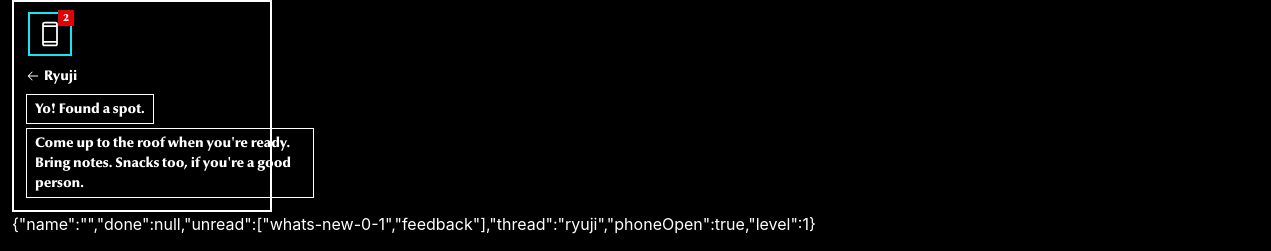
it: PhoneWidget › the back button returns to the list
Click the button "Ryuji" at [52, 76], box [26,66,77,86]
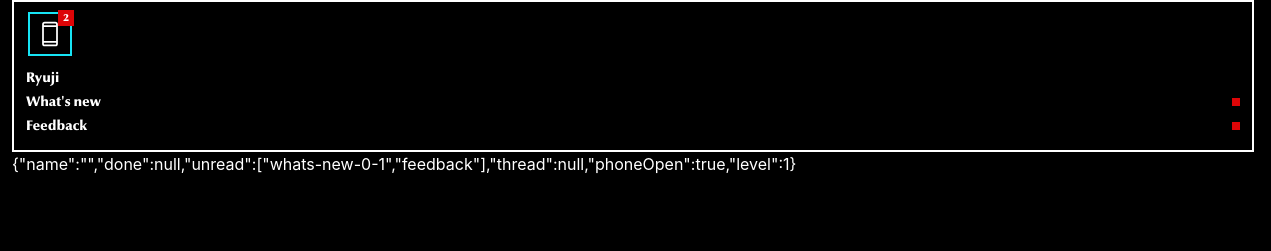
Expected: the button "Feedback" is shown, [26,114,1240,138]
